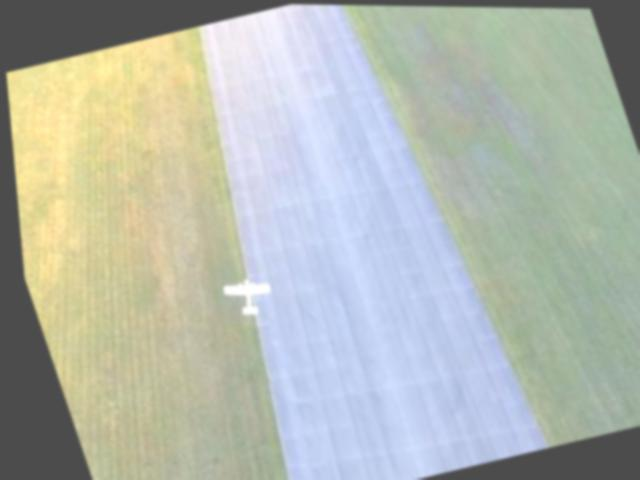uav: (215, 271, 273, 321)
